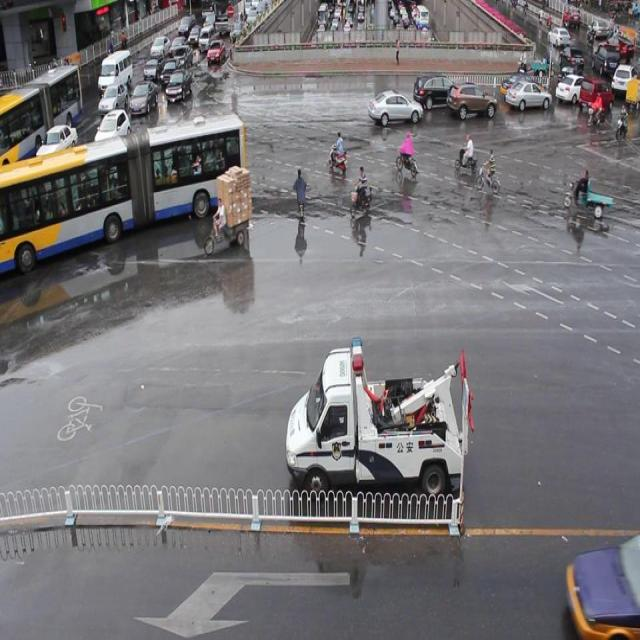bus: (285, 338, 464, 498)
car: (367, 90, 422, 126), (447, 80, 496, 118), (505, 79, 551, 112), (412, 74, 459, 105), (499, 72, 544, 97)
van: (1, 119, 244, 261)
